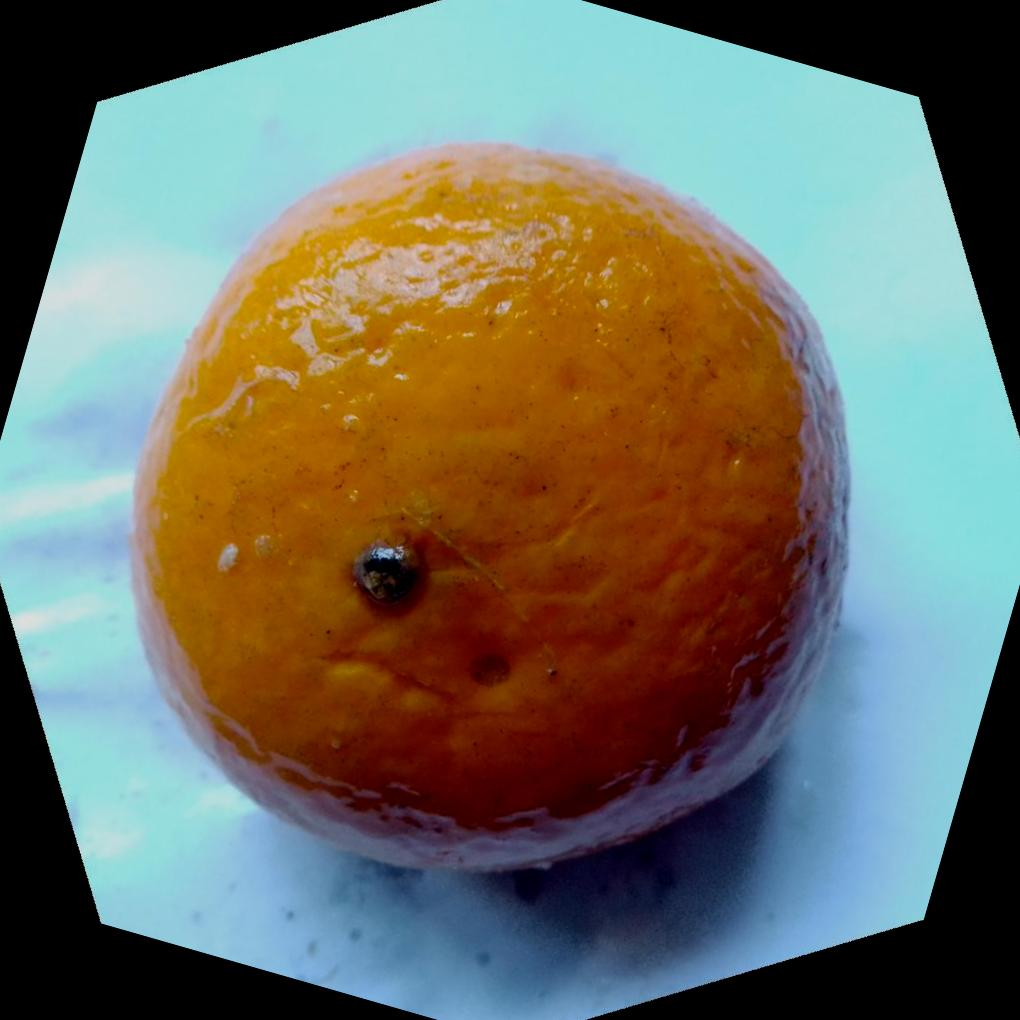FreshOrange: (125, 142, 851, 880)
